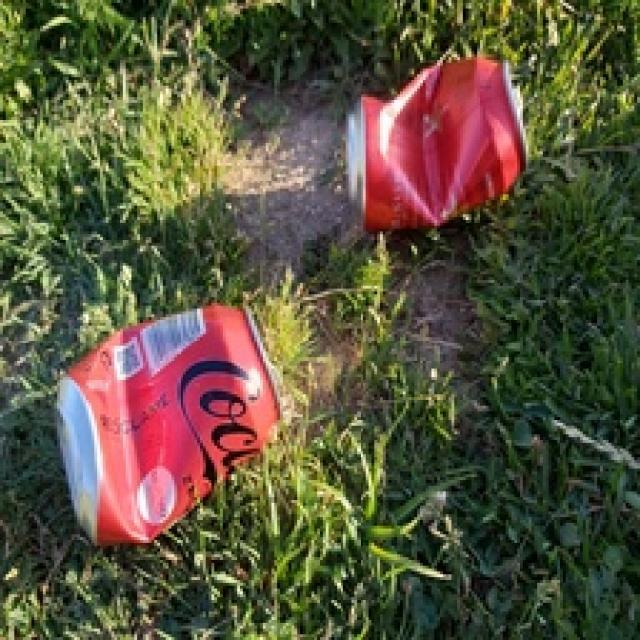recyclable: (54, 302, 286, 554), (342, 56, 530, 235)
